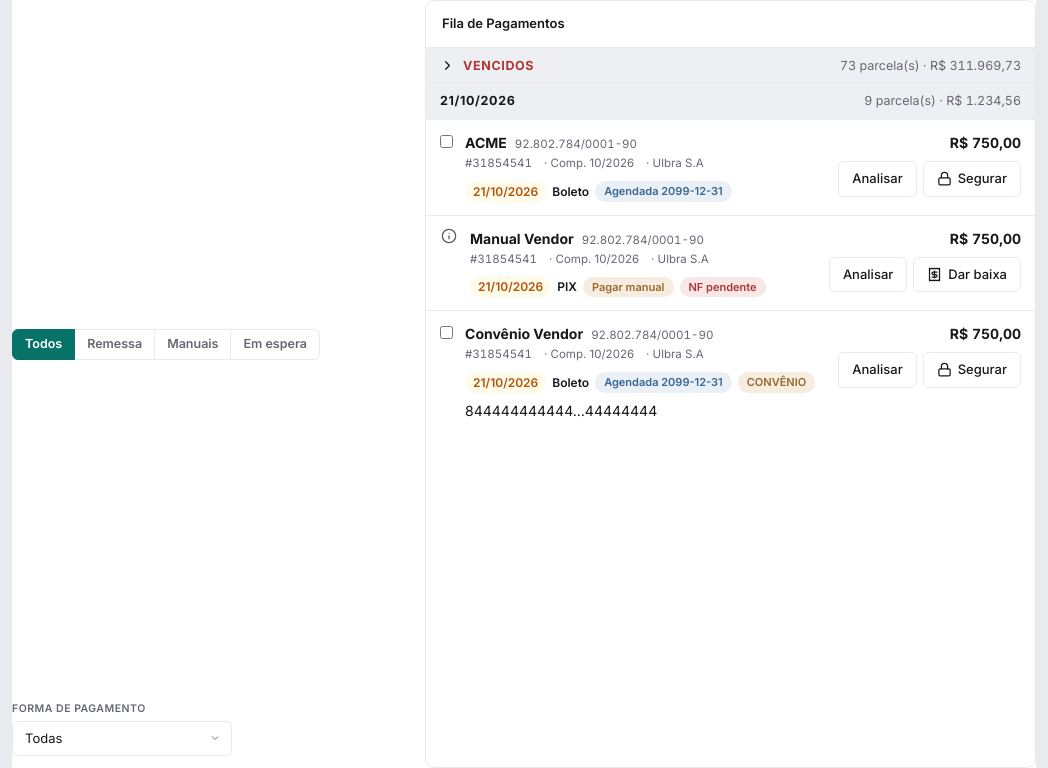
PaymentQueueTab › group headers use SUMMARY totals, not page sums, and Vencidos starts collapsed
Expected: the text "73 parcela(s) · R$ 311.969,73" is shown, left=840, top=56, right=1021, bottom=75
Expected: the text "Atrasada Ltda" is not shown
Click the text "Vencidos". click: click(499, 66)
box: left=463, top=56, right=534, bottom=75
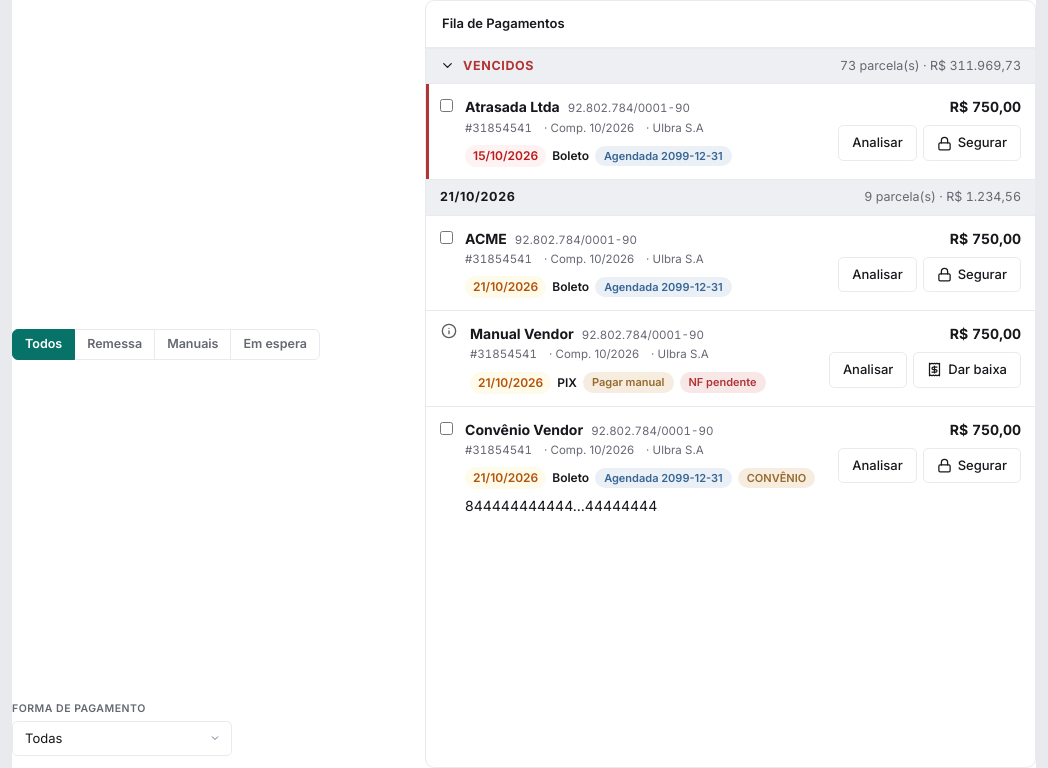
Expected: the text "9 parcela(s) · R$ 1.234,56" is shown, left=864, top=188, right=1021, bottom=207
Expected: the text "Atrasada Ltda" is shown, left=465, top=96, right=560, bottom=117
